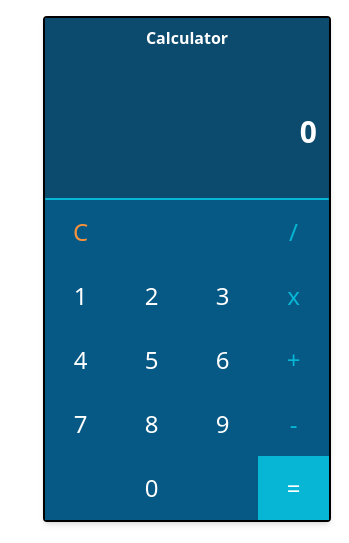
Scenario: Teste do componente App › Deve dividir 2 / 6 e o resultado deverá mostrar 0.3333333333333333 corretamente
This screenshot has width=349, height=543.
# Clique nos botões para inserir os números e operador
Click the text with test id "2": point(151, 296) [145, 279, 158, 312]
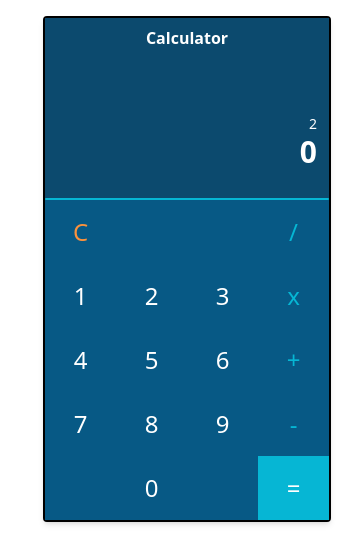
Click the text with test id "/": point(293, 232) [289, 215, 298, 248]
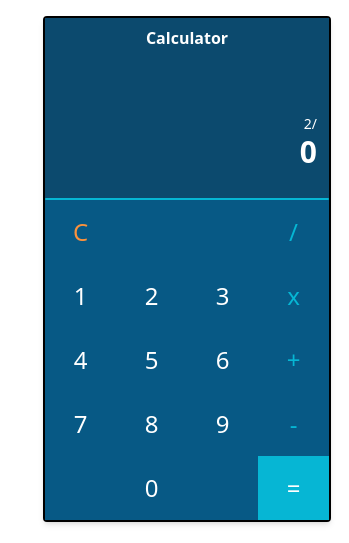
Click the text with test id "6": point(222, 360) [216, 343, 229, 376]
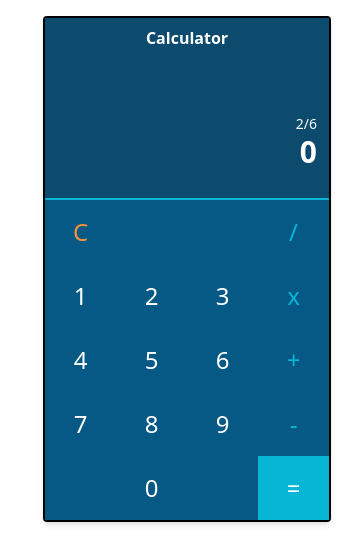
Click the text with test id "=": point(294, 488) [258, 456, 329, 520]
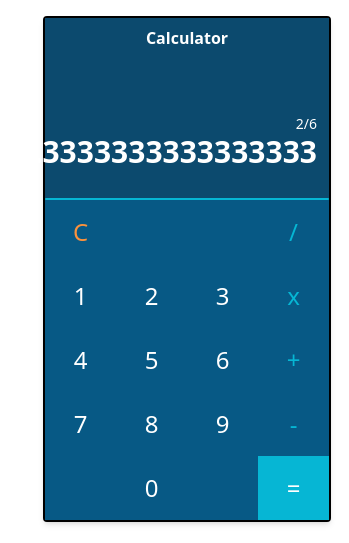
Check: the text with test id "result" reads "0.3333333333333333", box [17, 131, 317, 172]
